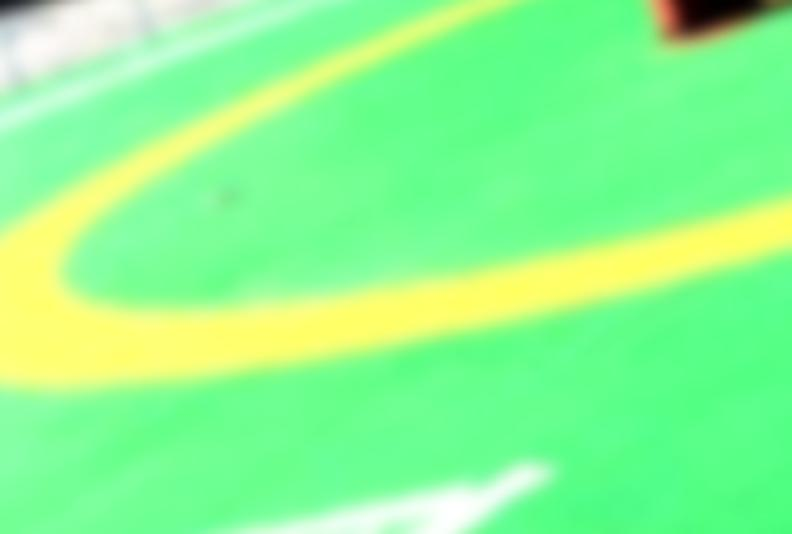Apron: (1, 2, 790, 393)
